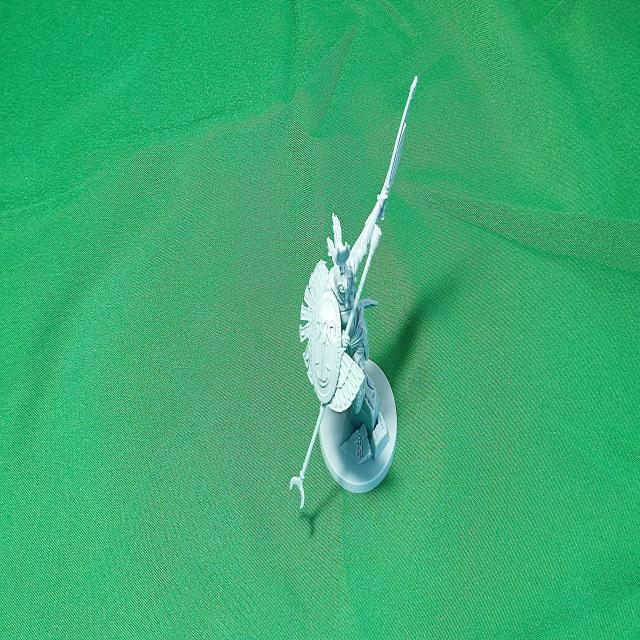isis: (271, 2, 434, 640)
